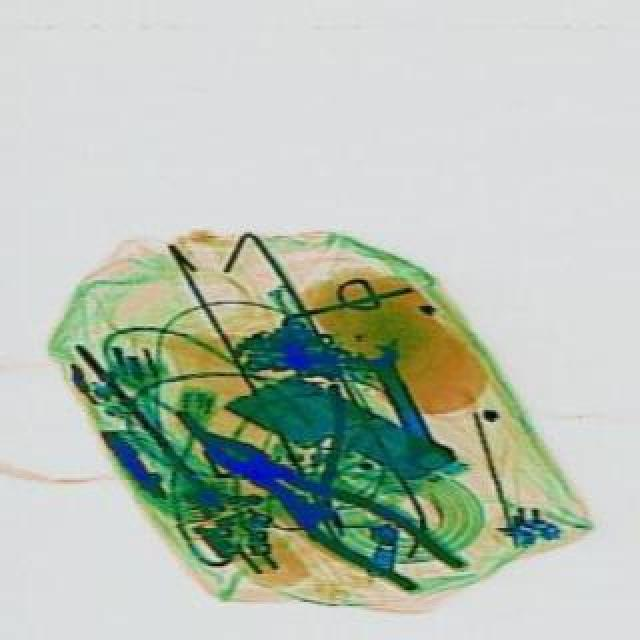scissors: (342, 334, 454, 478)
wrench: (182, 414, 466, 610), (170, 372, 370, 560)
